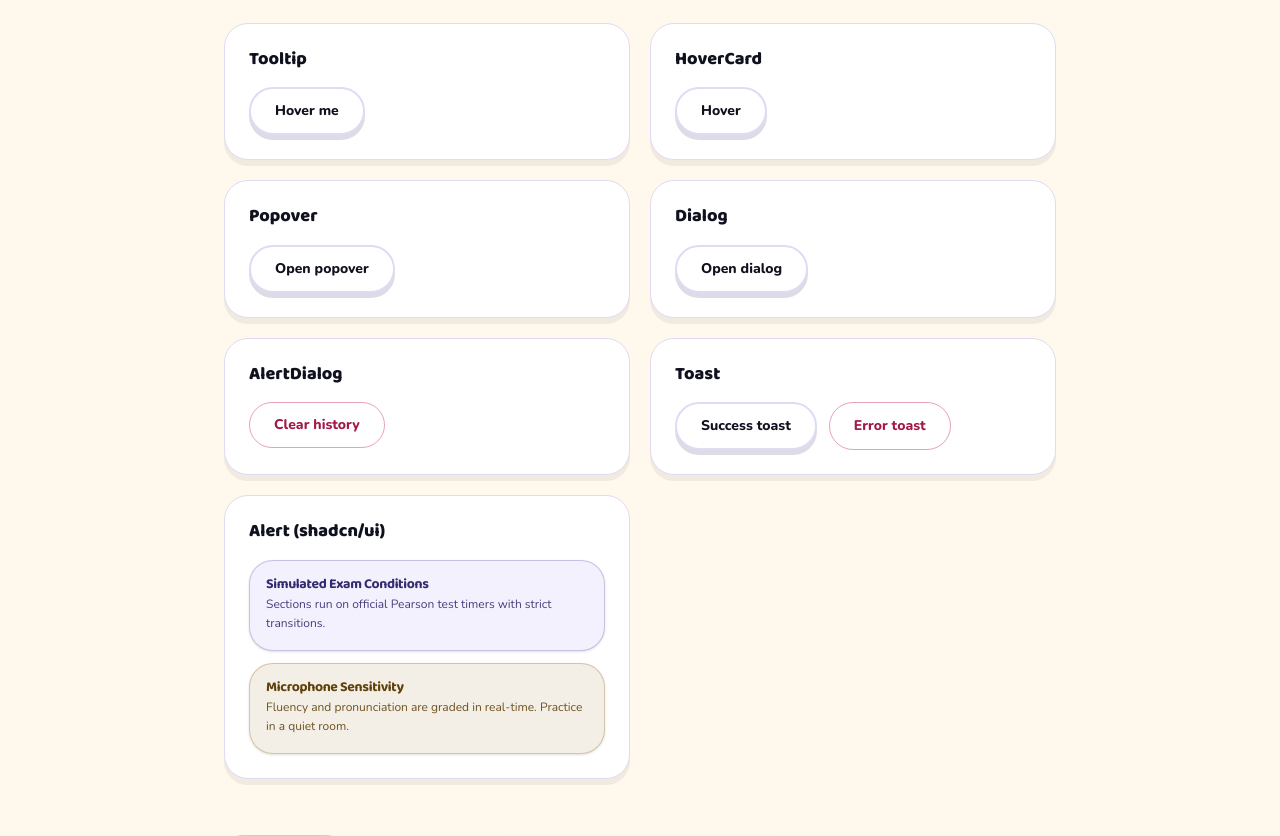
it: the component gallery › raises a success toast
(page scrolled)
Click the button "Success toast".
click(746, 426)  # box x1=675 y1=402 x2=817 y2=450
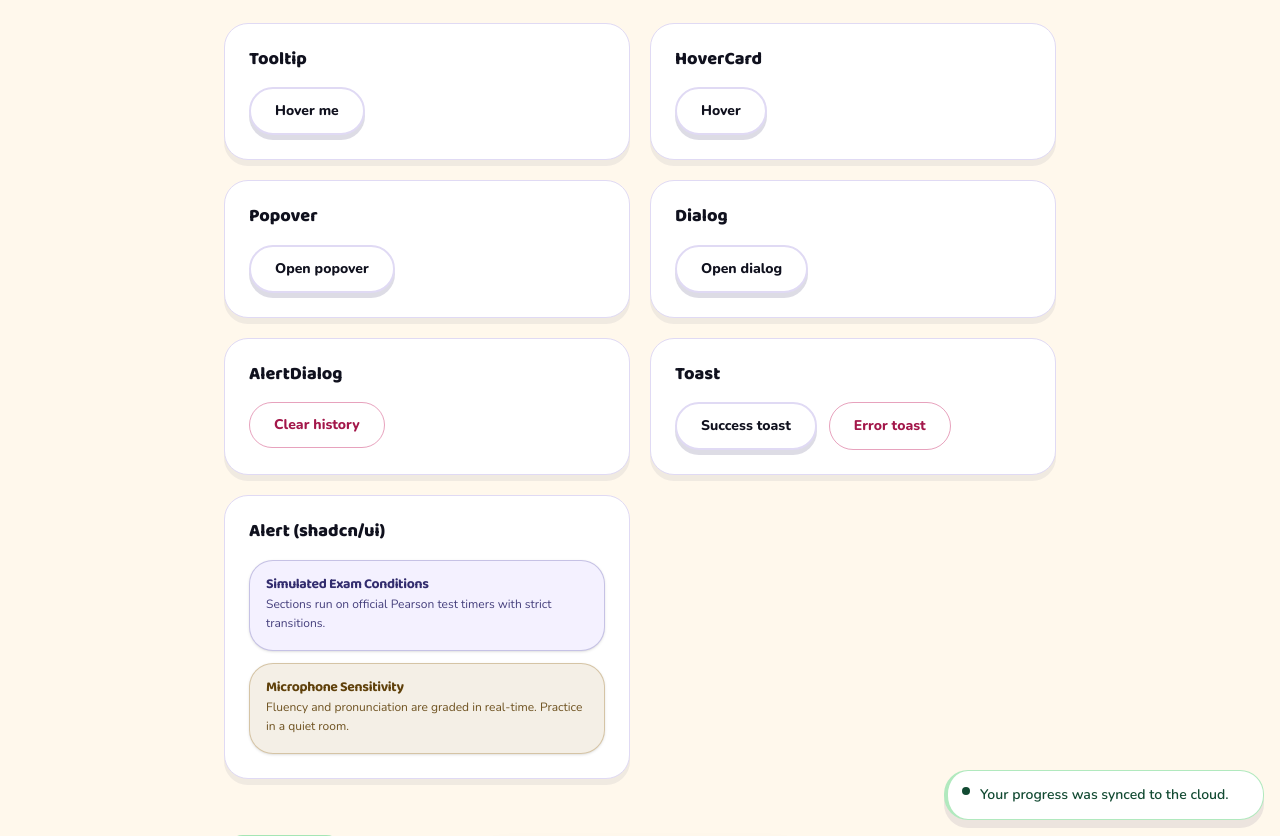
Expected: the text "Your progress was synced to the cloud." is shown, x1=980 y1=785 x2=1229 y2=805
